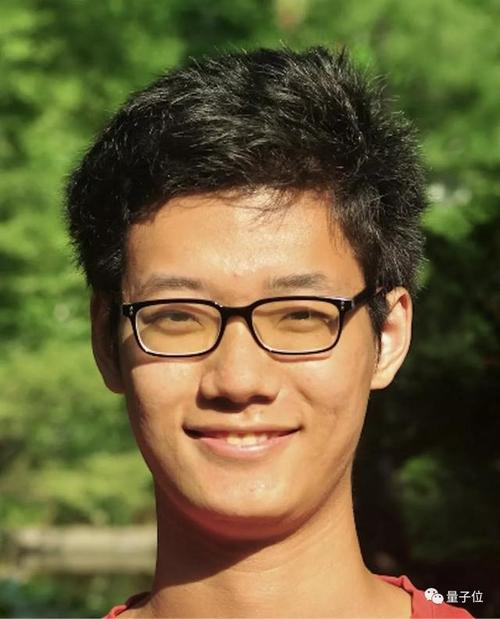no_mask: (102, 157, 388, 533)
